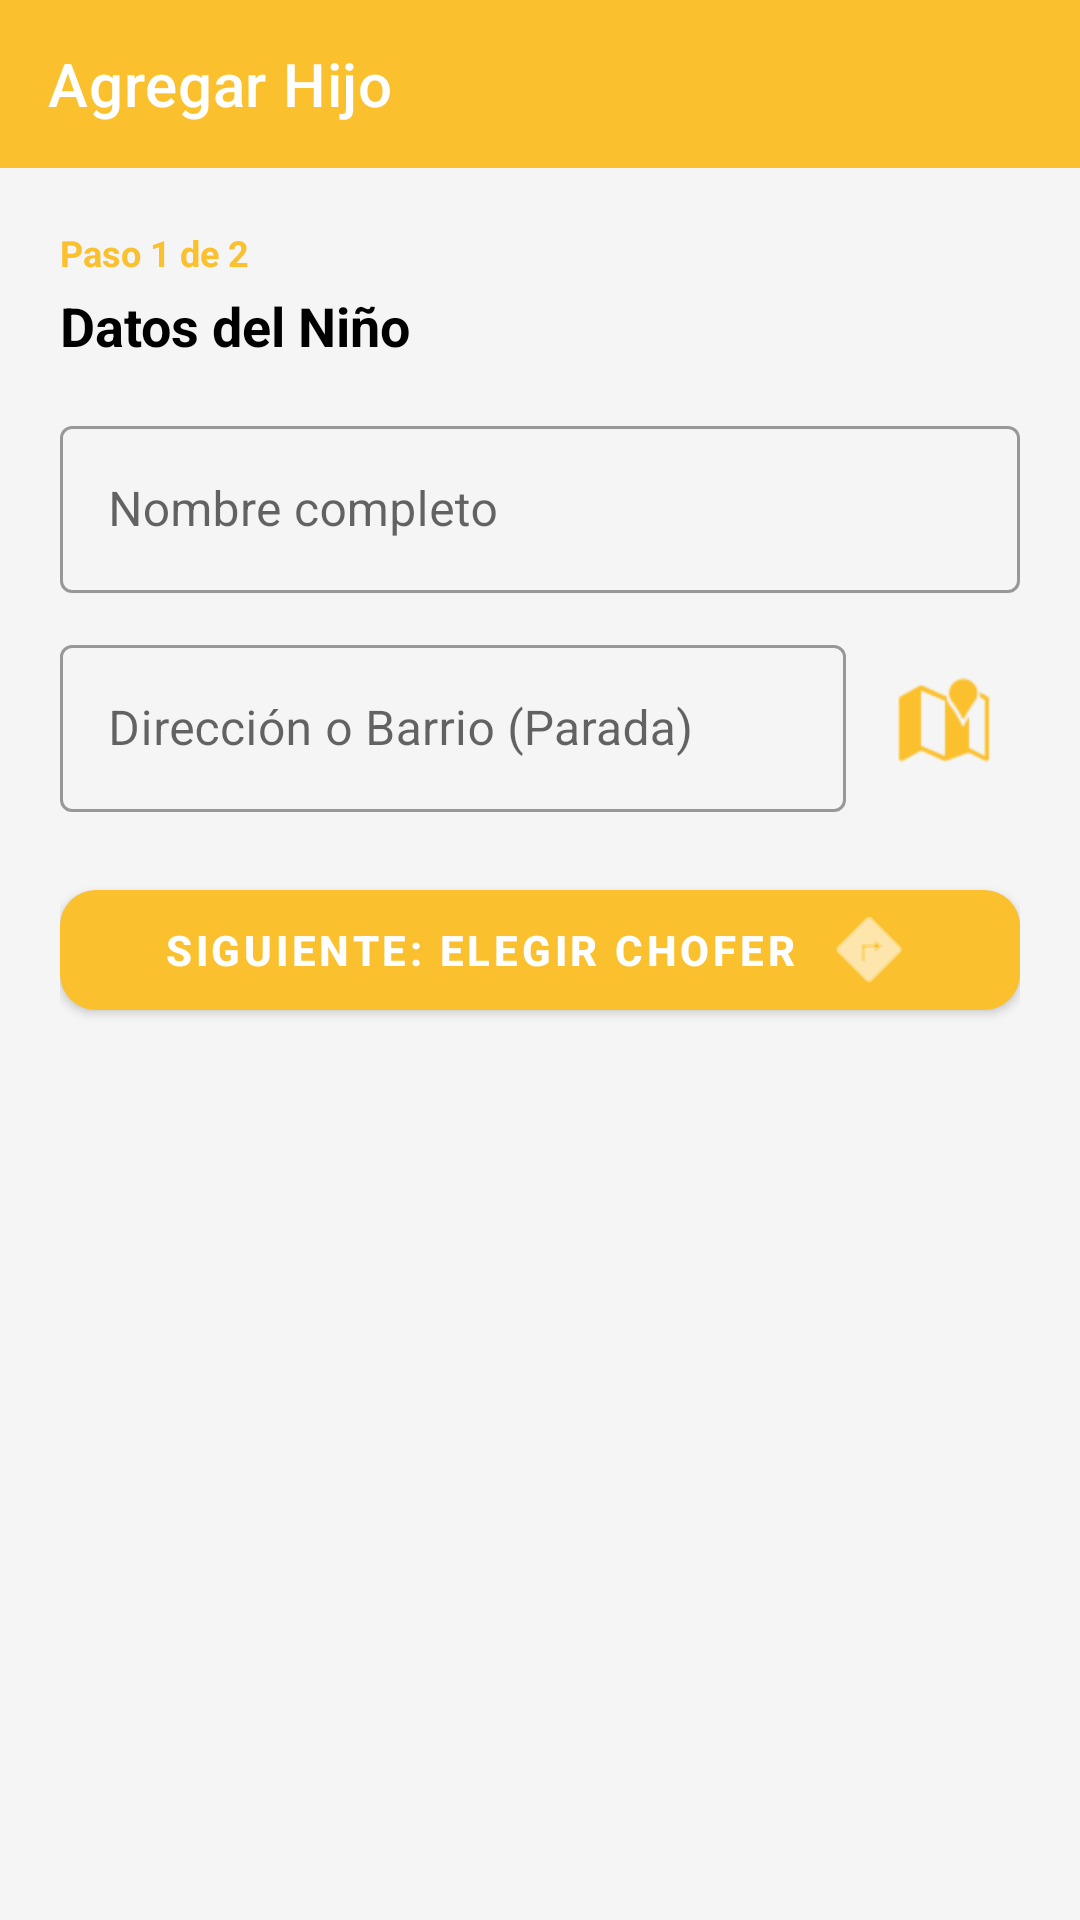

Named icons in this screenshot (1080 × 1920) and their bounding boxes, (x1, y1, x2, y2):
map: (898, 678, 990, 762)
